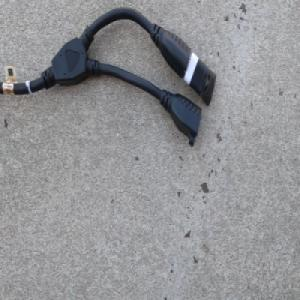Wire: (0, 6, 218, 148)
